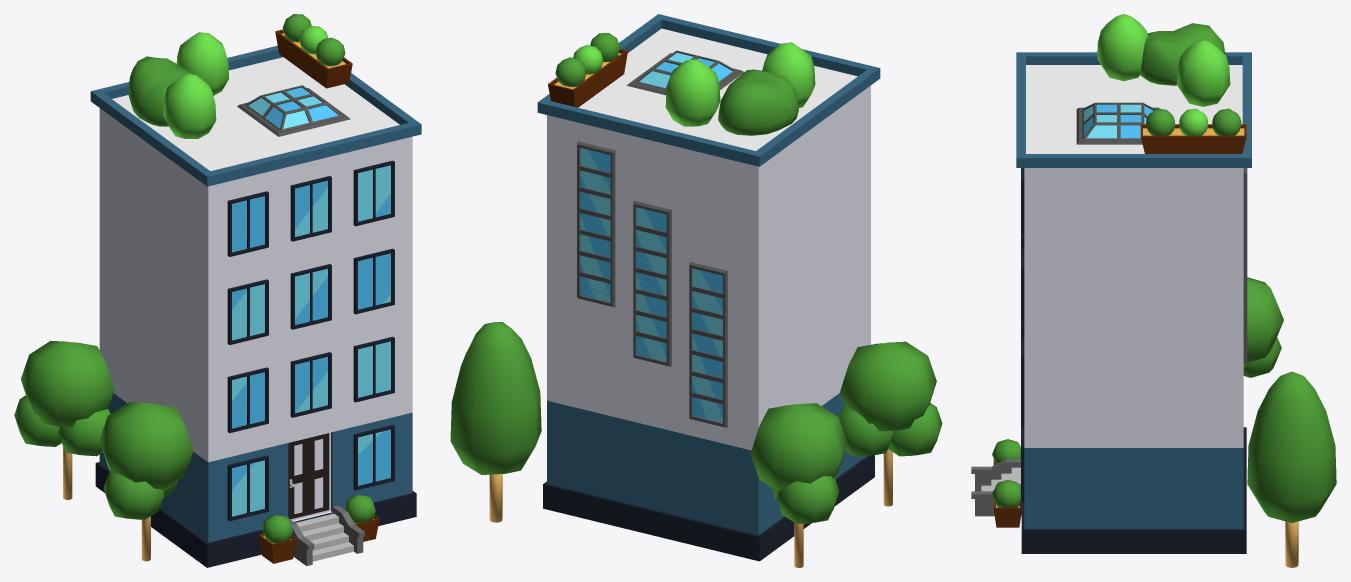
The model's file is office_building_4x12_trees.glb.
3 views of the same model, side by side, from view 1: azimuth 30°, elevation 25°; view 2: azimuth 150°, elevation 25°; view 3: azimuth 270°, elevation 25° (orthographic). The views are drawn at different scales.
Visible parts, largest first — view 1: Prop_Motel_01, Prop_Tree_08, Prop_Tree_08.001, Prop_Plant_01, Prop_RoofWindow_07, Prop_Bush_01, Prop_Bush_02, Prop_Bush_01.001, Prop_Plant_03.001, Prop_Plant_03; view 2: Prop_Motel_01, Prop_Tree_04, Prop_Tree_08.001, Prop_Tree_08, Prop_RoofWindow_04, Prop_RoofWindow_04.001, Prop_RoofWindow_04.002, Prop_Bush_02, Prop_Plant_01, Prop_Bush_01.001, Prop_Bush_01, Prop_RoofWindow_07; view 3: Prop_Motel_01, Prop_Tree_04, Prop_Plant_01, Prop_Tree_08, Prop_RoofWindow_07, Prop_Bush_01.001, Prop_Bush_02, Prop_Bush_01, Prop_Plant_03, Prop_RoofWindow_04, Prop_Plant_03.001.
Boxes of the visible parts, bbox=[...] form: Prop_Motel_01: bbox=[90, 45, 421, 567]; Prop_Tree_08: bbox=[14, 340, 114, 499]; Prop_Tree_08.001: bbox=[99, 402, 193, 561]; Prop_Plant_01: bbox=[275, 14, 352, 88]; Prop_RoofWindow_07: bbox=[237, 85, 350, 136]; Prop_Bush_01: bbox=[163, 74, 216, 138]; Prop_Bush_02: bbox=[128, 56, 193, 126]; Prop_Bush_01.001: bbox=[176, 32, 228, 95]; Prop_Plant_03.001: bbox=[258, 515, 296, 563]; Prop_Plant_03: bbox=[345, 495, 379, 541]; Prop_Motel_01: bbox=[537, 14, 880, 561]; Prop_Tree_04: bbox=[450, 322, 541, 522]; Prop_Tree_08.001: bbox=[839, 341, 942, 506]; Prop_Tree_08: bbox=[750, 403, 847, 567]; Prop_RoofWindow_04: bbox=[577, 141, 615, 307]; Prop_RoofWindow_04.001: bbox=[633, 200, 671, 366]; Prop_RoofWindow_04.002: bbox=[689, 262, 727, 427]; Prop_Bush_02: bbox=[718, 69, 798, 135]; Prop_Plant_01: bbox=[548, 33, 627, 107]; Prop_Bush_01.001: bbox=[665, 59, 720, 126]; Prop_Bush_01: bbox=[762, 42, 815, 107]; Prop_RoofWindow_07: bbox=[626, 50, 744, 95]; Prop_Motel_01: bbox=[971, 52, 1251, 553]; Prop_Tree_04: bbox=[1247, 371, 1336, 567]; Prop_Plant_01: bbox=[1140, 108, 1246, 153]; Prop_Tree_08: bbox=[1243, 277, 1283, 377]; Prop_RoofWindow_07: bbox=[1076, 102, 1160, 144]; Prop_Bush_01.001: bbox=[1176, 40, 1230, 106]; Prop_Bush_02: bbox=[1140, 23, 1225, 85]; Prop_Bush_01: bbox=[1097, 14, 1148, 80]; Prop_Plant_03: bbox=[992, 480, 1021, 527]; Prop_RoofWindow_04: bbox=[1243, 168, 1247, 325]; Prop_Plant_03.001: bbox=[992, 439, 1020, 465].
Size of the model in its own units: 9.7 by 11.84 by 8.67.
Materials: 1 (1 with a texture image).
